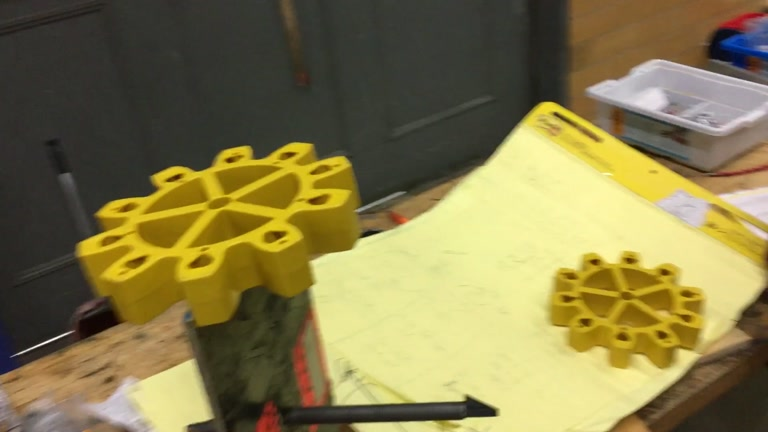gear: (75, 142, 364, 329), (546, 248, 708, 368)
